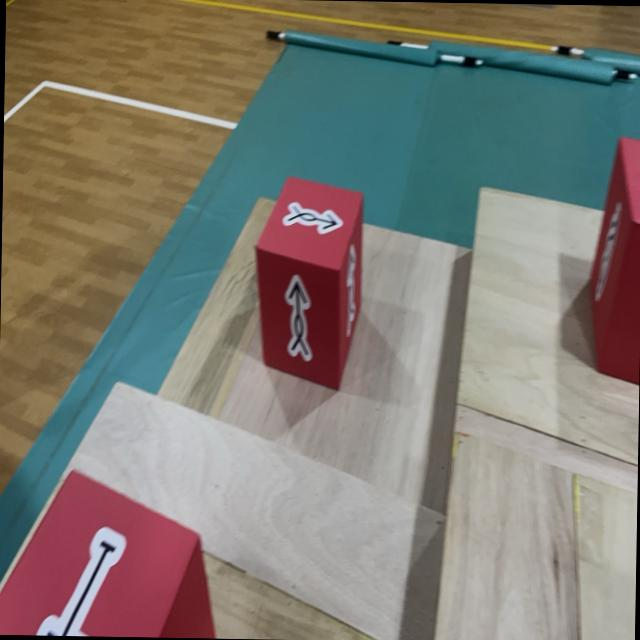11: (593, 202, 619, 306)
12: (284, 276, 314, 364), (282, 199, 342, 238), (344, 243, 358, 340)
9: (36, 524, 127, 637)
fighter: (0, 467, 217, 638), (252, 176, 366, 392), (588, 135, 640, 385)
